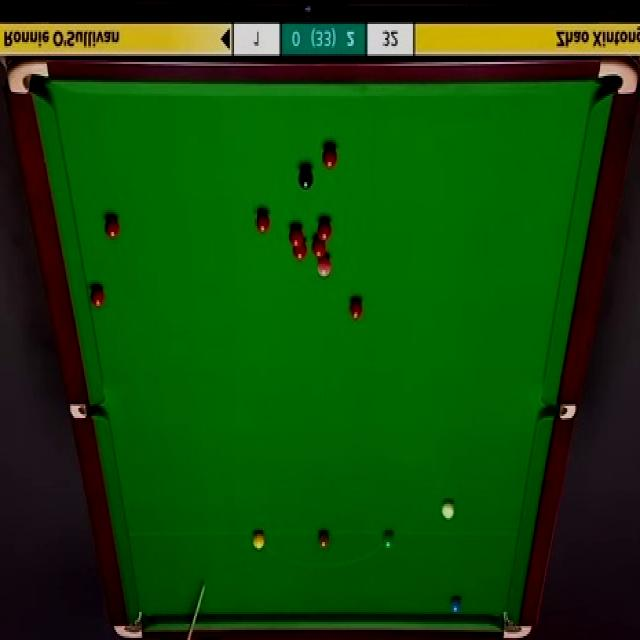black-ball: (299, 167, 315, 189)
blue-ball: (450, 596, 463, 613)
brown-ball: (318, 530, 331, 550)
green-ball: (381, 529, 395, 550)
pink-ball: (316, 256, 332, 281)
red-ball: (255, 208, 271, 235), (90, 284, 107, 308), (322, 146, 338, 170), (104, 216, 120, 240), (310, 238, 326, 260), (317, 220, 332, 243), (293, 239, 307, 262), (348, 299, 362, 321), (289, 226, 303, 247)
white-ball: (440, 501, 454, 519)
yellow-ball: (251, 530, 266, 551)
